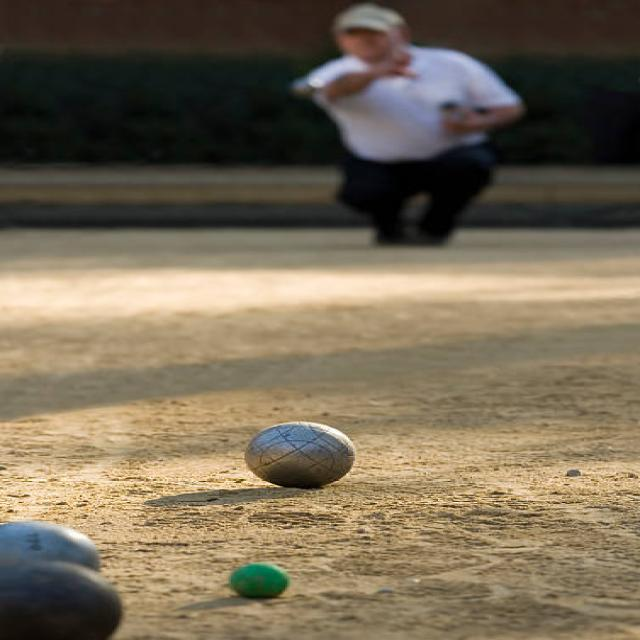hatball: (212, 557, 296, 607)
petanque: (0, 561, 129, 639), (242, 420, 363, 492)
